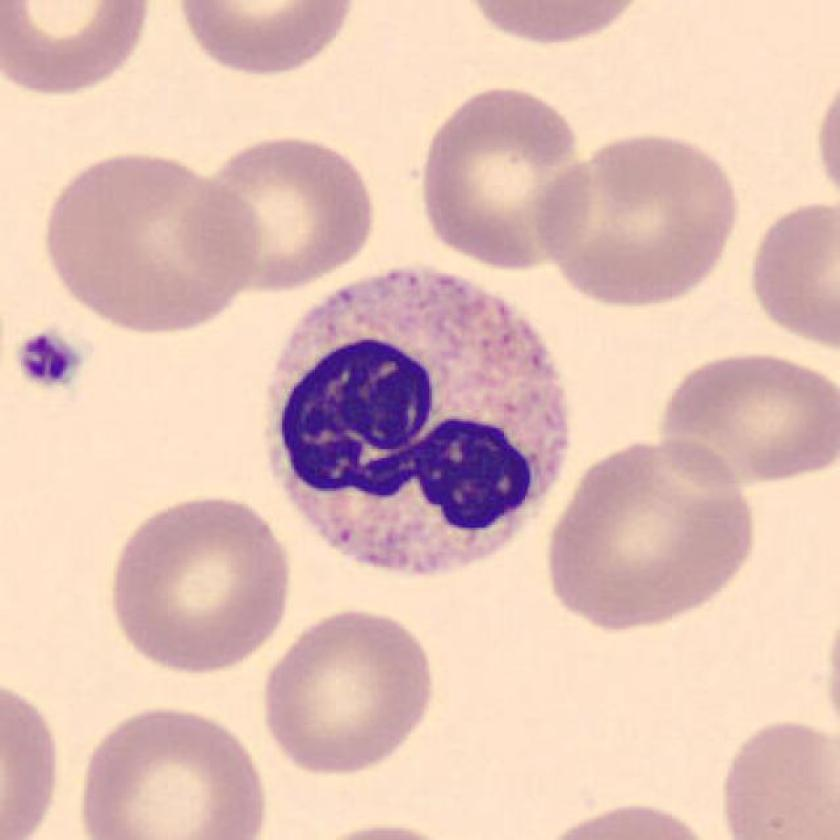neutrophil: (267, 267, 568, 572)
